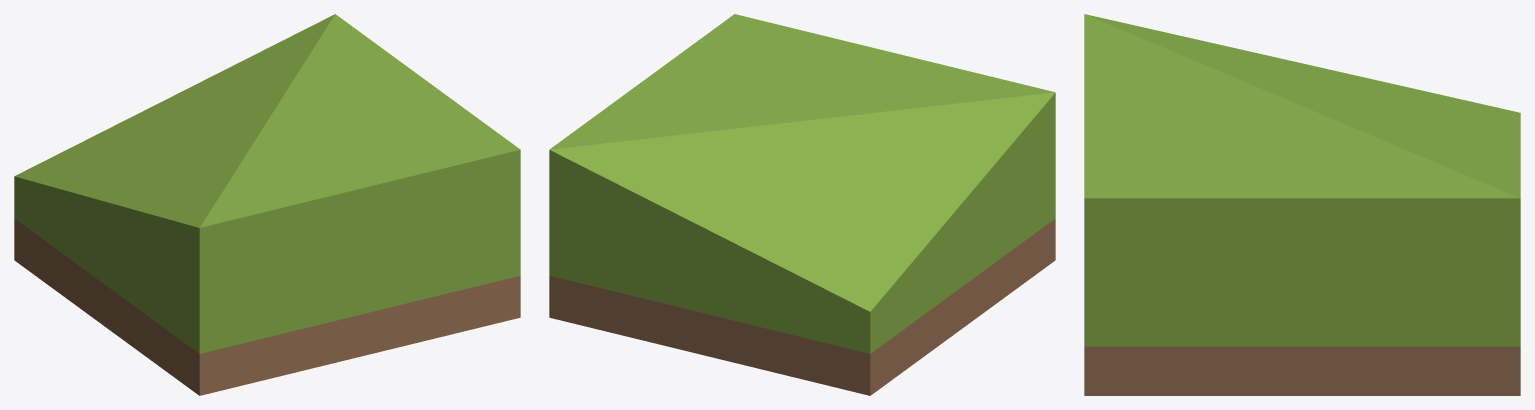
The model's file is hill-corner-high.obj.
3 renders of one model, left to right at view 1: azimuth 30°, elevation 25°; view 2: azimuth 150°, elevation 25°; view 3: azimuth 270°, elevation 25°, orthographic. The views are drawn at different scales.
Visible parts, largest first — view 1: hill-corner-high_Cube.266; view 2: hill-corner-high_Cube.266; view 3: hill-corner-high_Cube.266.
Part boxes in pixels (left/top/right/bottom): hill-corner-high_Cube.266: left=14, top=14, right=520, bottom=395; hill-corner-high_Cube.266: left=549, top=14, right=1055, bottom=395; hill-corner-high_Cube.266: left=1084, top=14, right=1520, bottom=395.
Size of the model in its own units: 8 by 4 by 8.
Materials: 1 (1 with a texture image).
